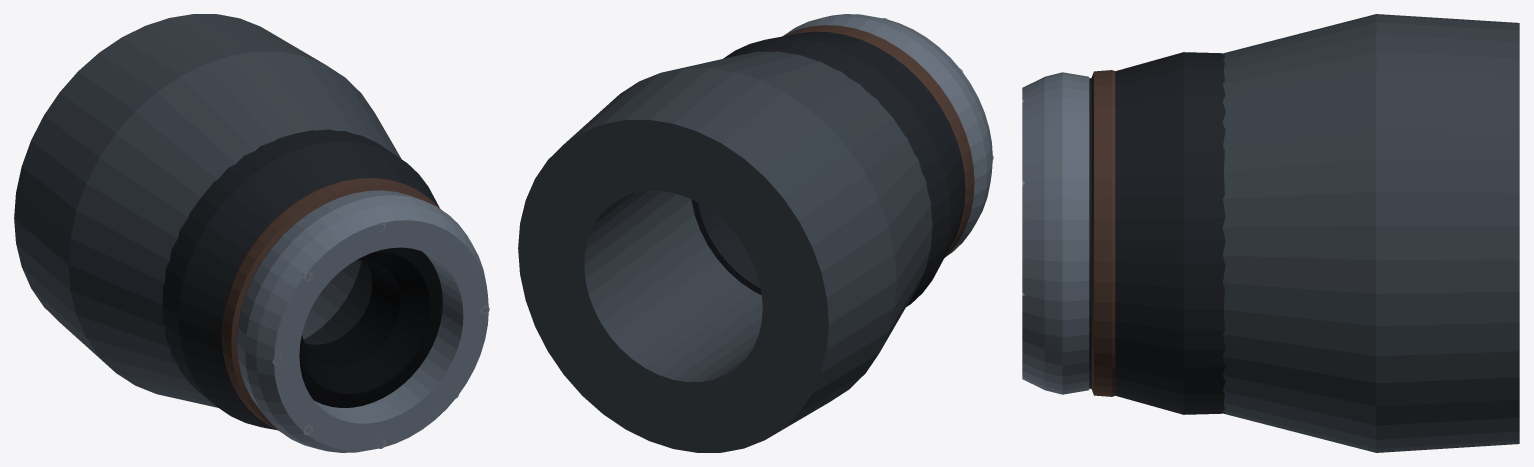
Rendered from VeilCannon.obj.
3 renders of one model, left to right at view 1: azimuth 30°, elevation 25°; view 2: azimuth 150°, elevation 25°; view 3: azimuth 270°, elevation 25°, orthographic. The views are drawn at different scales.
Visible parts, largest first — view 1: structural_breech, focus_bezel, optical_sleeve, recessed_iris, thermal_neck; view 2: structural_breech, optical_sleeve, focus_bezel, thermal_neck; view 3: structural_breech, optical_sleeve, focus_bezel, thermal_neck.
Part boxes in pixels (box(x1,y1,x2,y2)): structural_breech: box(14, 14, 401, 407); focus_bezel: box(237, 190, 488, 452); optical_sleeve: box(162, 129, 439, 429); recessed_iris: box(299, 247, 442, 407); thermal_neck: box(222, 178, 440, 430); structural_breech: box(518, 51, 932, 452); optical_sleeve: box(691, 31, 965, 306); focus_bezel: box(784, 14, 992, 256); thermal_neck: box(782, 25, 974, 257); structural_breech: box(1222, 14, 1519, 452); optical_sleeve: box(1089, 52, 1225, 414); focus_bezel: box(1022, 72, 1089, 394); thermal_neck: box(1091, 70, 1115, 396).
Size of the model in its own units: 0.98 by 0.98 by 1.11.
